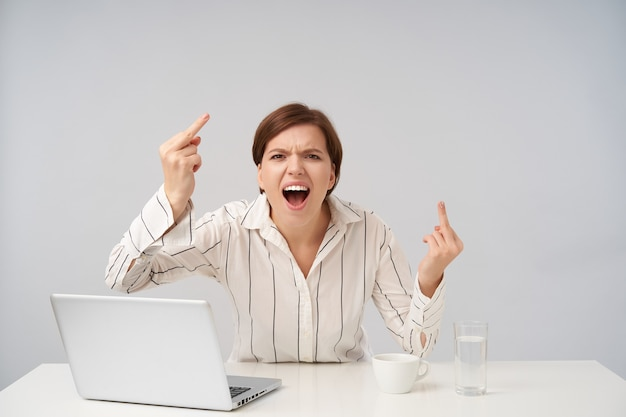insulting_gesture: (157, 112, 211, 203), (416, 199, 467, 283)
